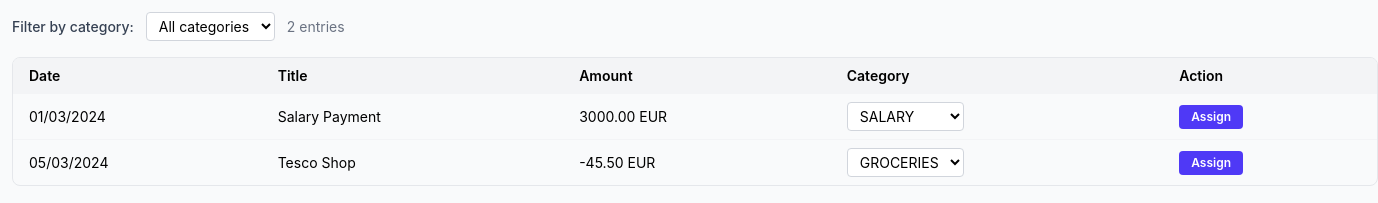
it: EntriesPage › row selection is preserved when a filter repositions the entry
Expected: the text "Tesco Shop" is shown, [262,140,563,185]
Select "SALARY" in the dropdown in the row of "05/03/2024": [905, 162] box [847,148,964,177]
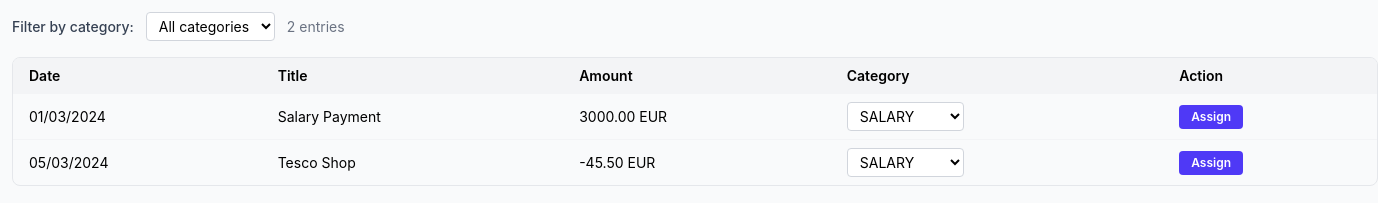
Note: Filter to GROCERIES — Tesco Shop moves to index 0 in displayedEntries
Select "GROCERIES" in the dropdown next to "Filter by category:": [210, 26] box [146,12,275,41]
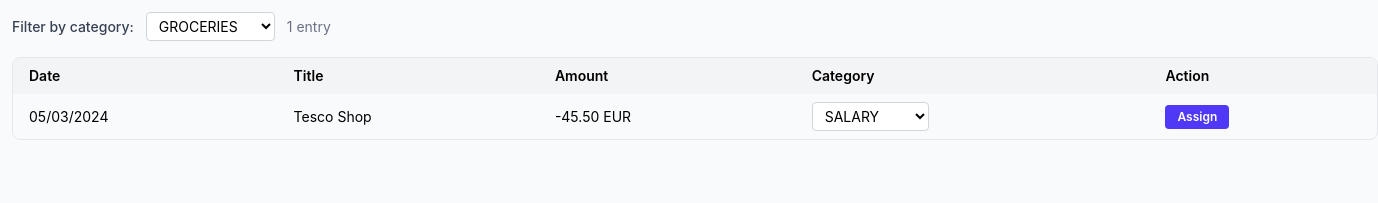
Expected: the text "Salary Payment" is gone
